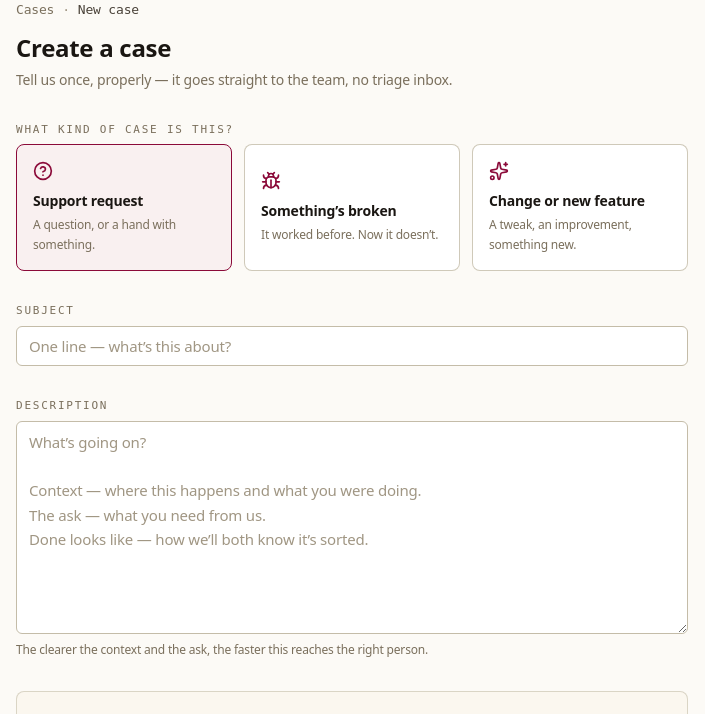
Test case: CaseCreatePage › offers impact + urgency on every record type
# Still present alongside the change-only justification field.
Click the radio button labelled "Change or new feature": (580, 208) [472,144,688,271]
(page scrolled)
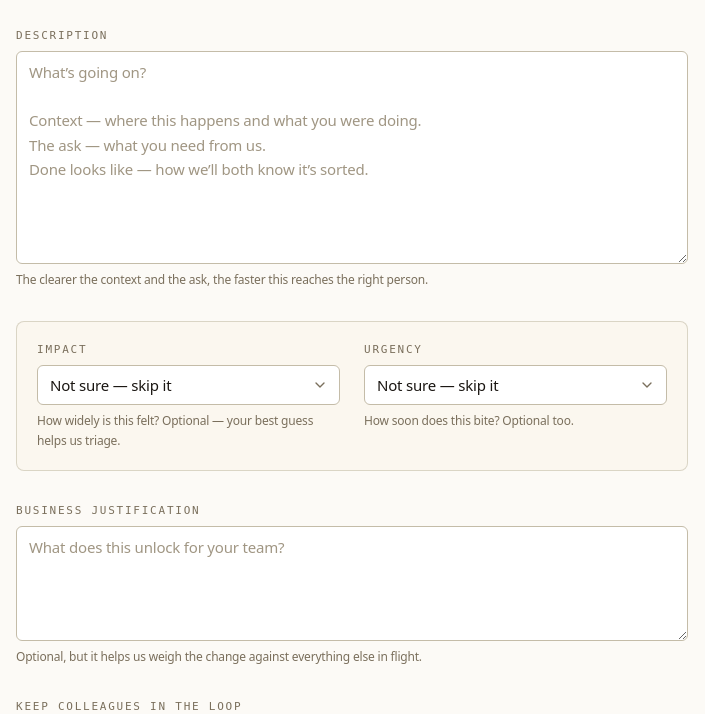
Check: the dropdown labelled "Impact" is shown, box [37,364,340,405]
Check: the text box labelled "Business justification" is shown, box [16,526,688,641]
